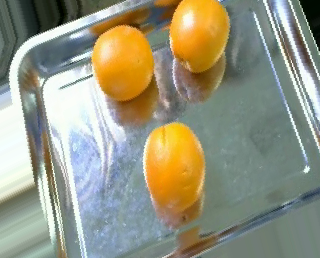Orange: (143, 121, 205, 215), (92, 24, 154, 100), (169, 1, 231, 74)
